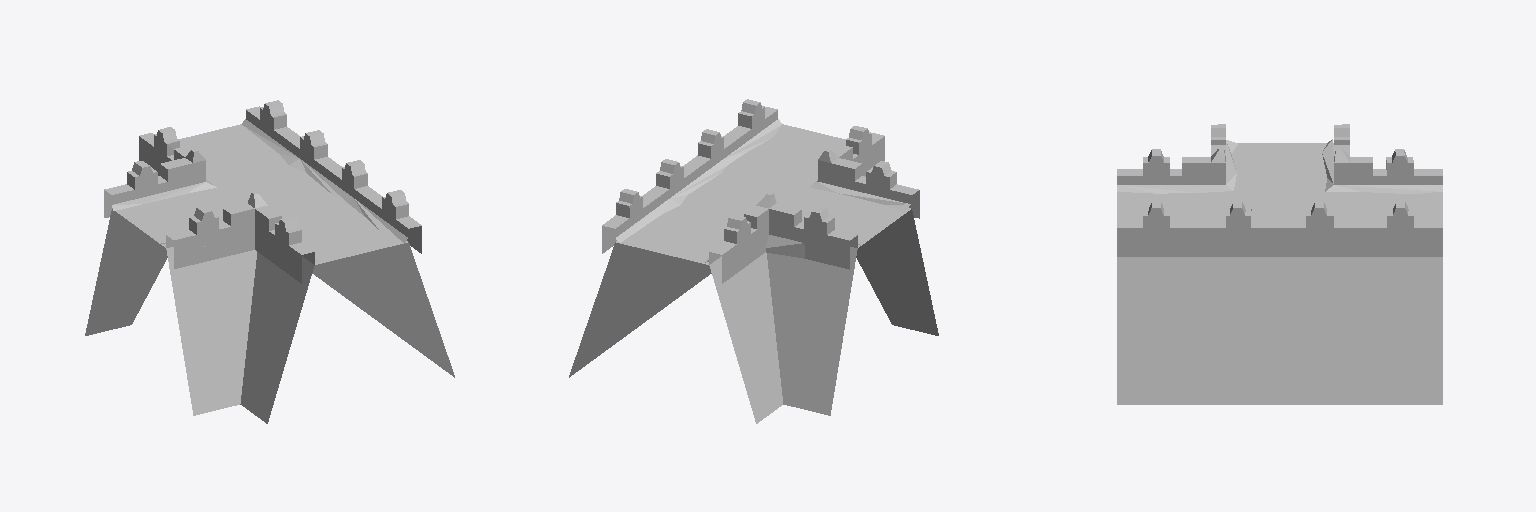
The model's file is templeTRight_prefab.obj.
3 views of the same model, side by side, from view 1: azimuth 30°, elevation 25°; view 2: azimuth 150°, elevation 25°; view 3: azimuth 270°, elevation 25° (orthographic).
Parts seen in each view (by area): view 1: Object82-Pivot; view 2: Object82-Pivot; view 3: Object82-Pivot.
Boxes of the visible parts, x1=… form: Object82-Pivot: x1=85, y1=100, x2=454, y2=423; Object82-Pivot: x1=569, y1=99, x2=938, y2=423; Object82-Pivot: x1=1117, y1=124, x2=1442, y2=404.
Size of the model in its own units: 50.3 by 37.27 by 60.